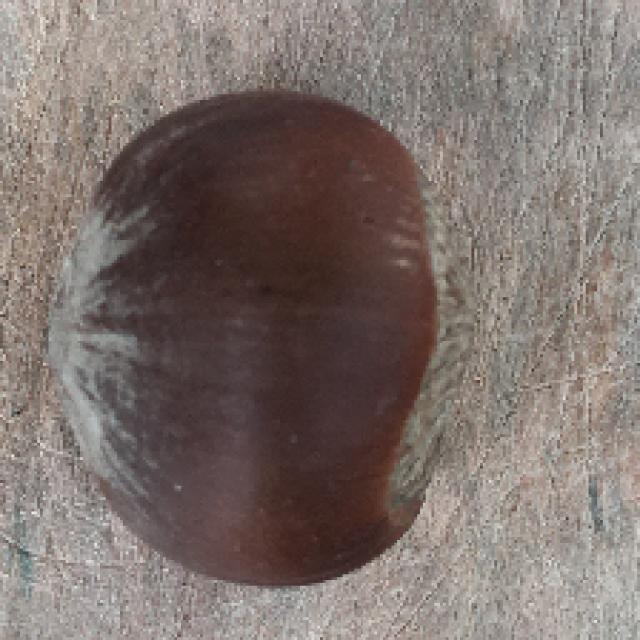DamagedHazelnut: (49, 94, 481, 582)
